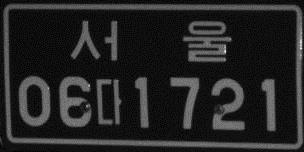0: (18, 75, 50, 127)
1: (258, 77, 280, 132), (132, 76, 153, 129)
2: (210, 78, 247, 131)
6: (58, 74, 93, 129)
7: (168, 75, 201, 129)
다: (95, 77, 123, 126)
서울_D: (70, 17, 232, 65)
